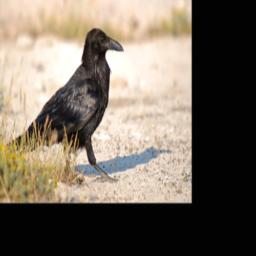Crow: (2, 27, 124, 185)
